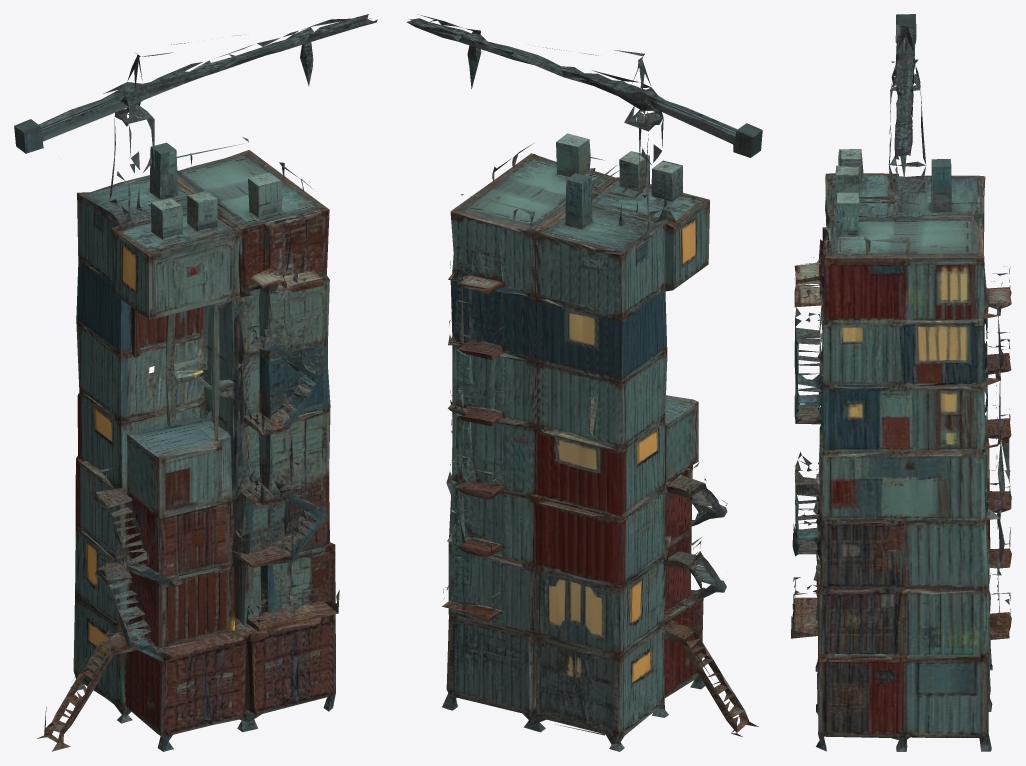
The model's file is crane_stack.glb.
3 views of the same model, side by side, from view 1: azimuth 30°, elevation 25°; view 2: azimuth 150°, elevation 25°; view 3: azimuth 270°, elevation 25° (orthographic).
Parts seen in each view (by area): view 1: crane_stack; view 2: crane_stack; view 3: crane_stack.
Part boxes in pixels (x1=…): crane_stack: x1=14, y1=14, x2=377, y2=751; crane_stack: x1=406, y1=15, x2=762, y2=751; crane_stack: x1=791, y1=14, x2=1011, y2=751.
Bounding box in the file's own units: 1.05 × 1.86 × 0.5707.
1 material, 1 textured.
